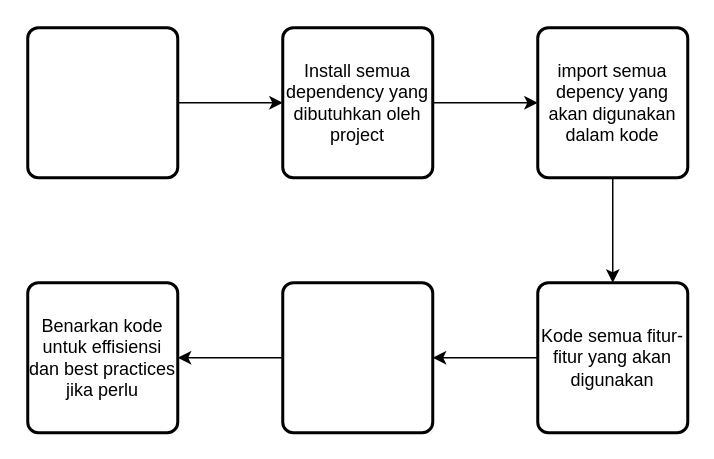
The diagram is 714 pixels wide and 459 high, and some of its shapes have lost their labels. Here are the shapes that lost their labels. From the top down, the centre of each, then its label:
pixel 102 102: Buat project Flutter
pixel 357 357: Debug fitur untuk bug
